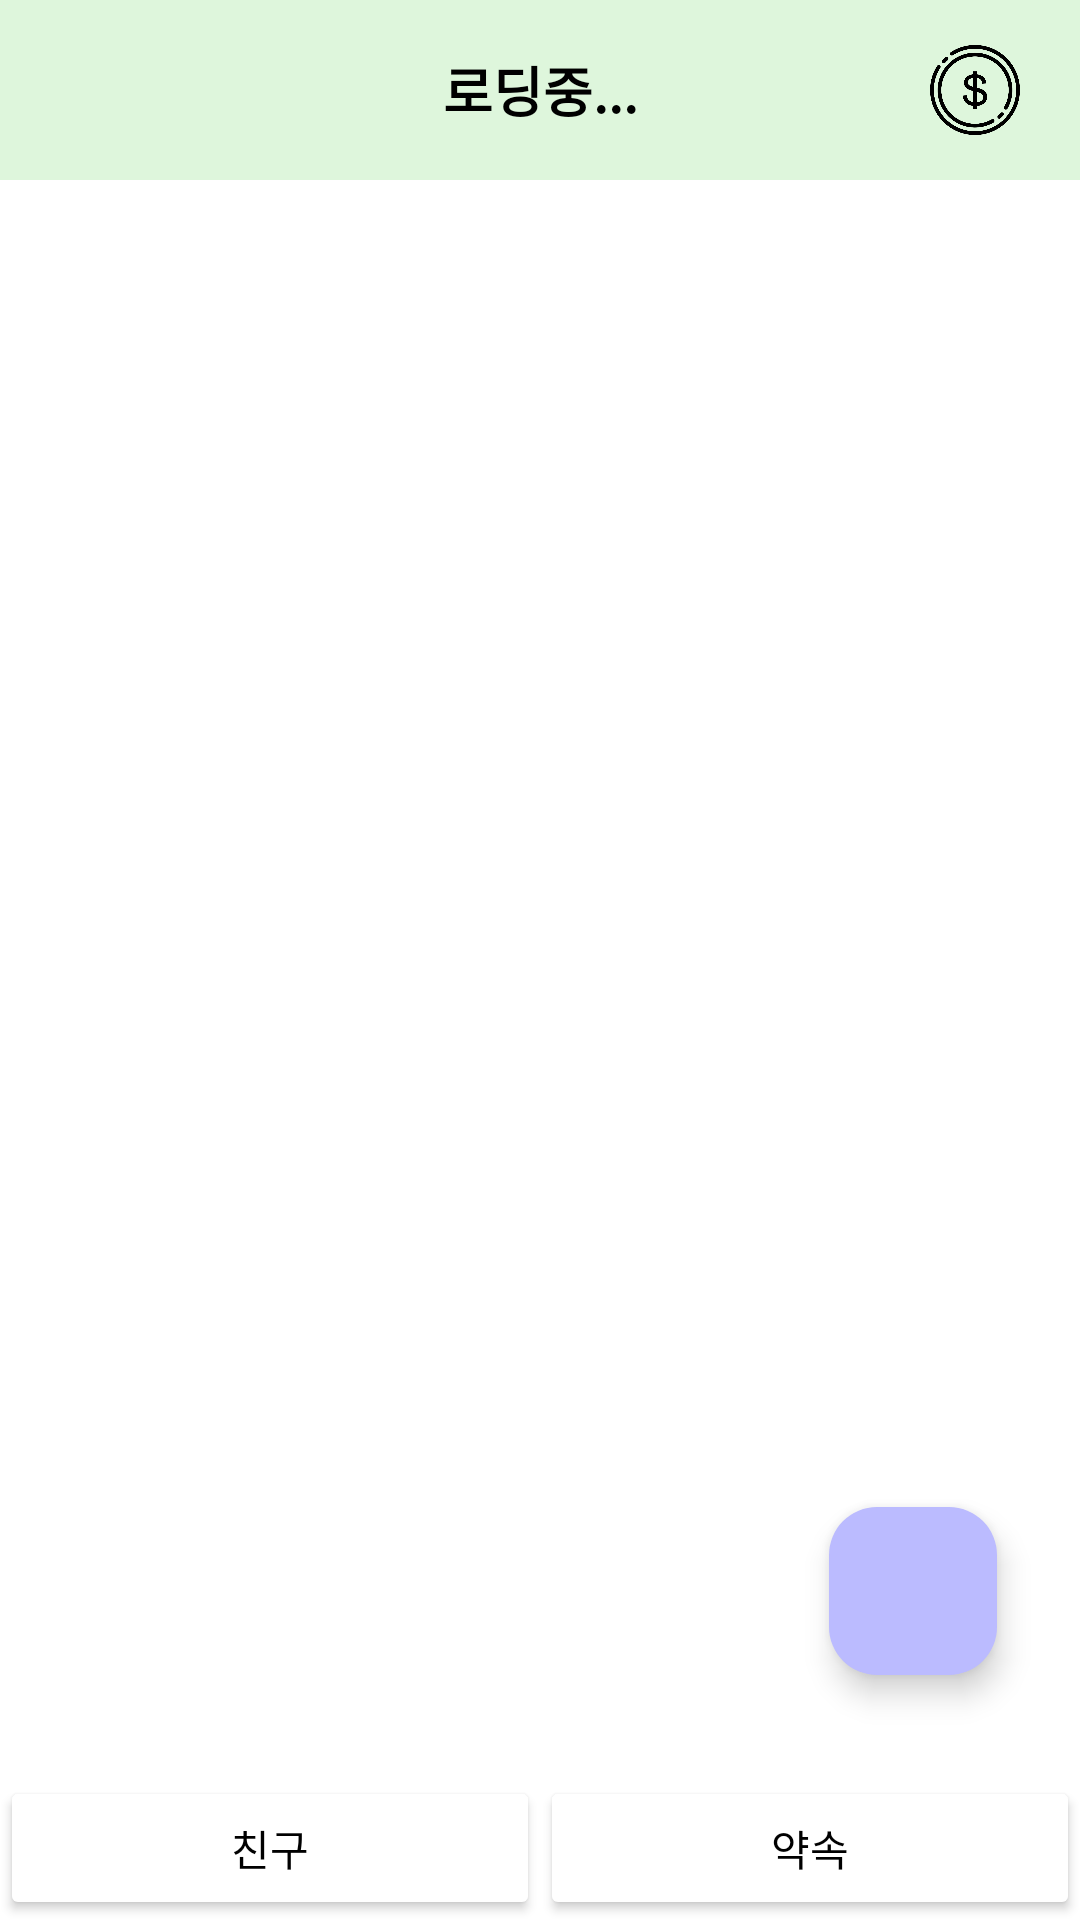

Icon click points for this 1080px x 1920px phone screenshot, format [x,y]:
home show coin: [975,90]
